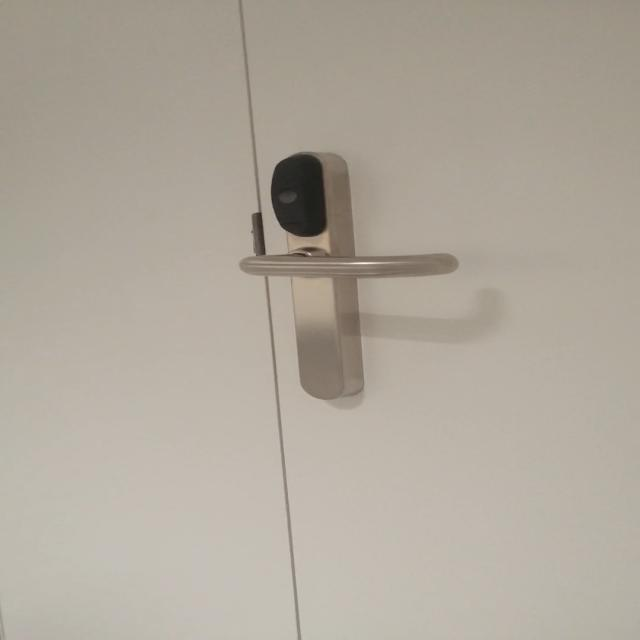door_handle: (231, 244, 462, 284)
